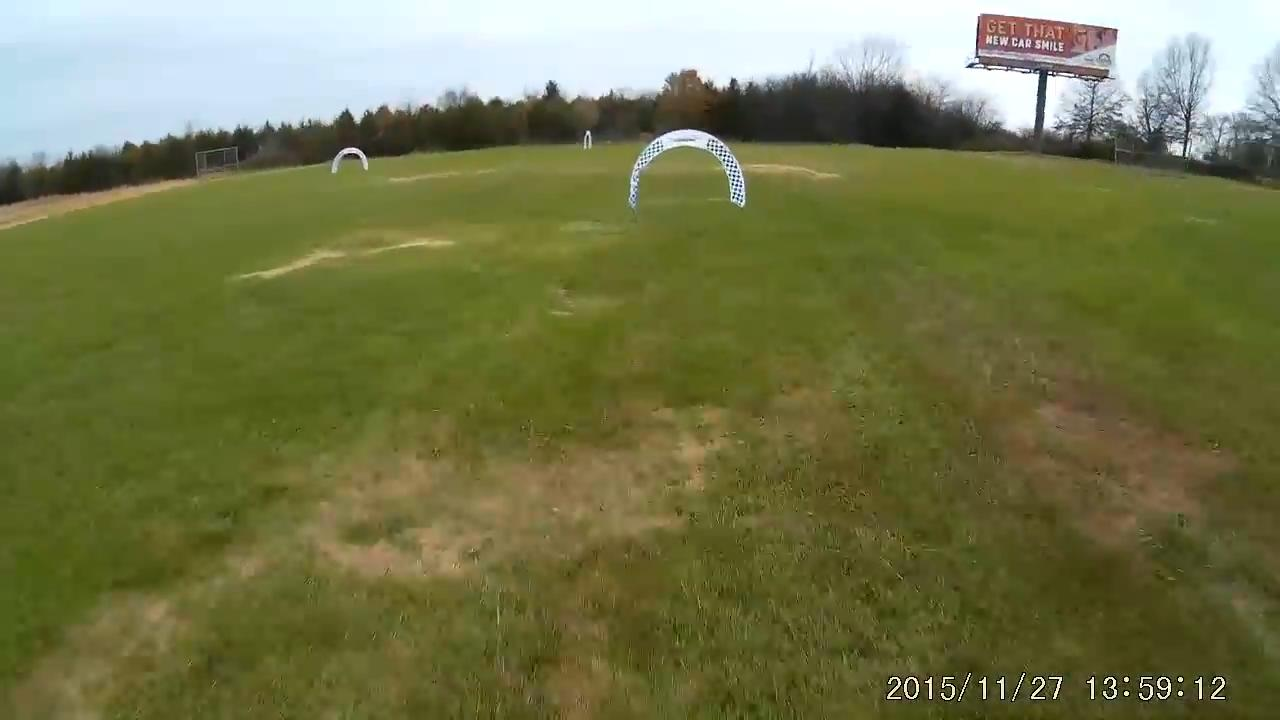gate: (624, 127, 747, 208)
